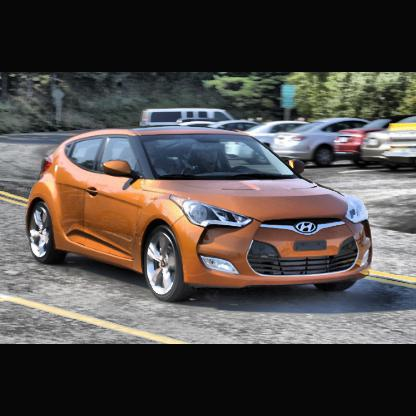Hyundai Veloster Hatchback 2012: (24, 126, 376, 305)
